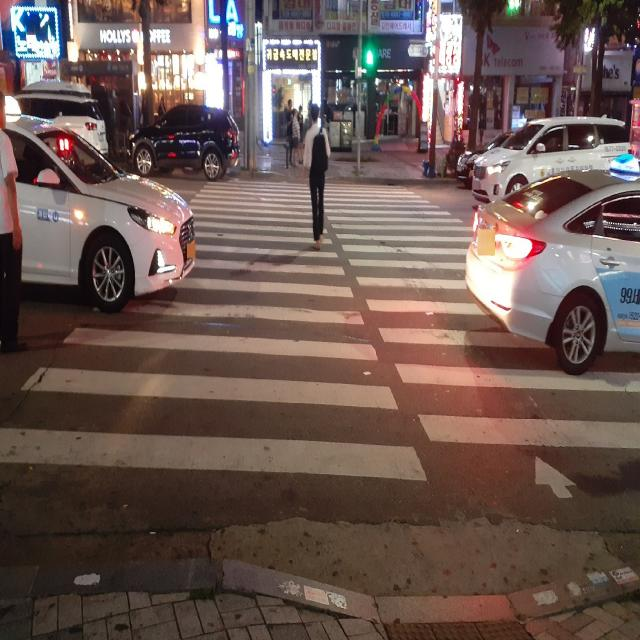초록불: (364, 33, 375, 74)
횡단보도: (0, 177, 640, 503)
